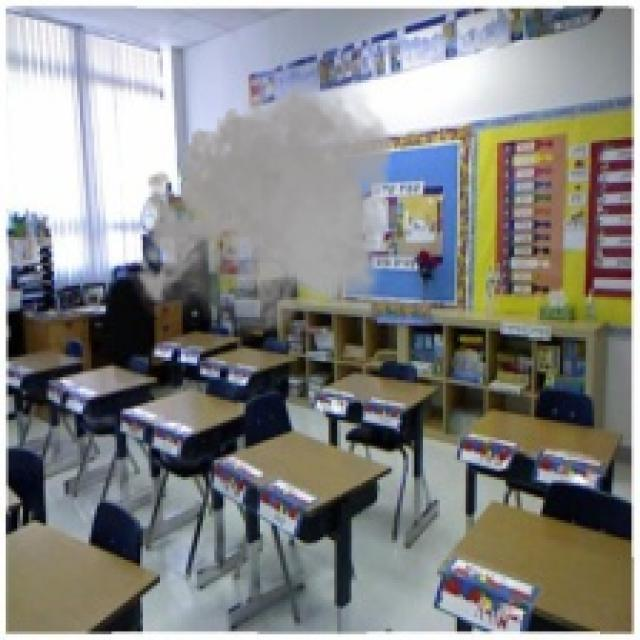Smoke: (128, 72, 403, 348)
